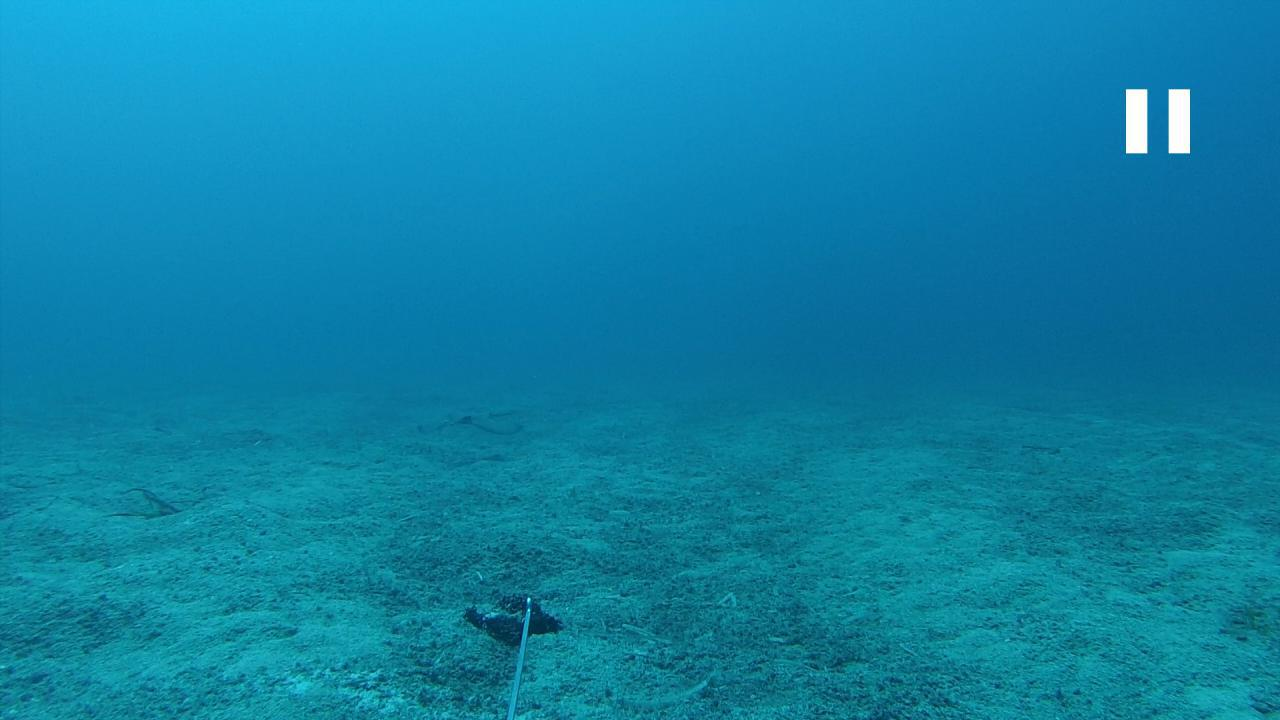dasyatis: (416, 408, 523, 438)
